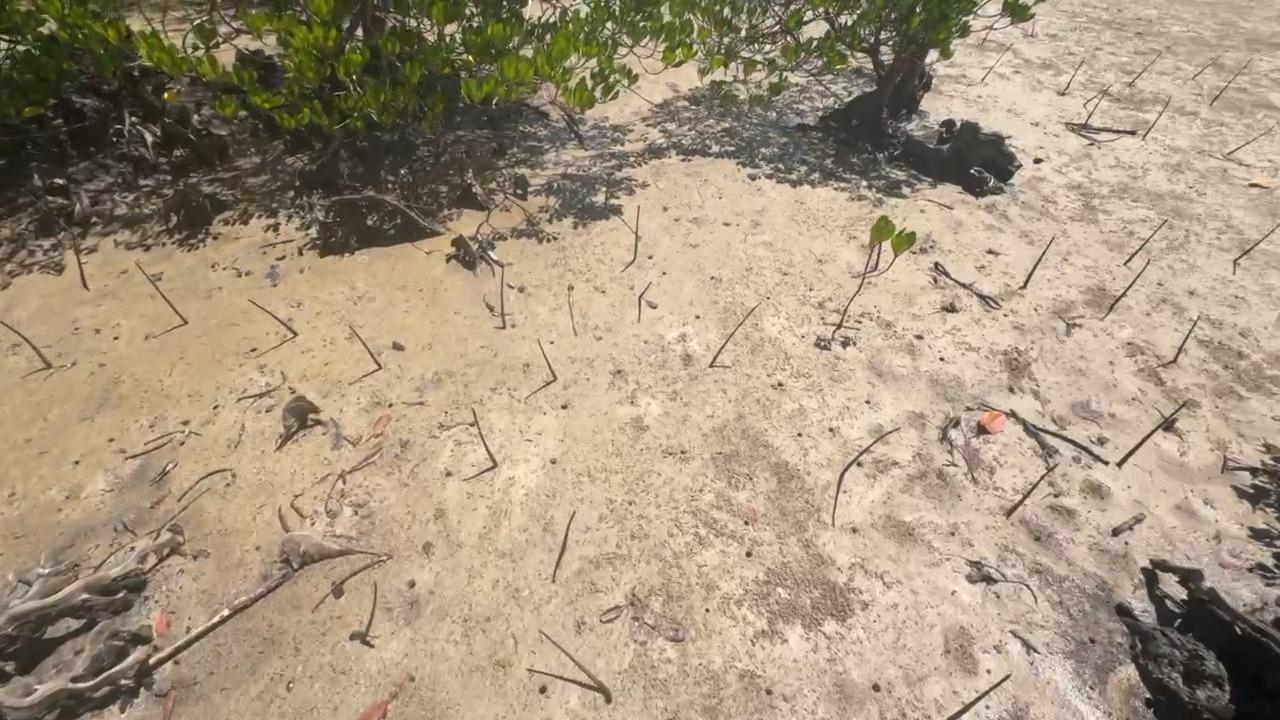Tree: (537, 629, 610, 698), (1117, 400, 1187, 469), (708, 302, 763, 367), (135, 259, 189, 325), (1004, 462, 1061, 519), (946, 672, 1013, 720), (840, 426, 902, 475), (0, 320, 55, 369), (1108, 258, 1151, 312), (1208, 57, 1253, 107), (1123, 218, 1169, 266), (245, 298, 300, 336), (176, 468, 234, 503), (1233, 222, 1280, 264), (471, 406, 499, 469), (1023, 235, 1055, 289), (348, 324, 382, 369), (1141, 96, 1173, 140), (1226, 125, 1271, 156), (981, 43, 1013, 83), (1128, 51, 1163, 86), (1172, 319, 1197, 364), (536, 338, 559, 381), (1084, 88, 1108, 126), (1062, 60, 1086, 94), (364, 580, 378, 637), (559, 509, 576, 553), (499, 262, 507, 330), (632, 204, 641, 261), (1083, 86, 1106, 107), (1192, 63, 1211, 80), (639, 281, 654, 300)
